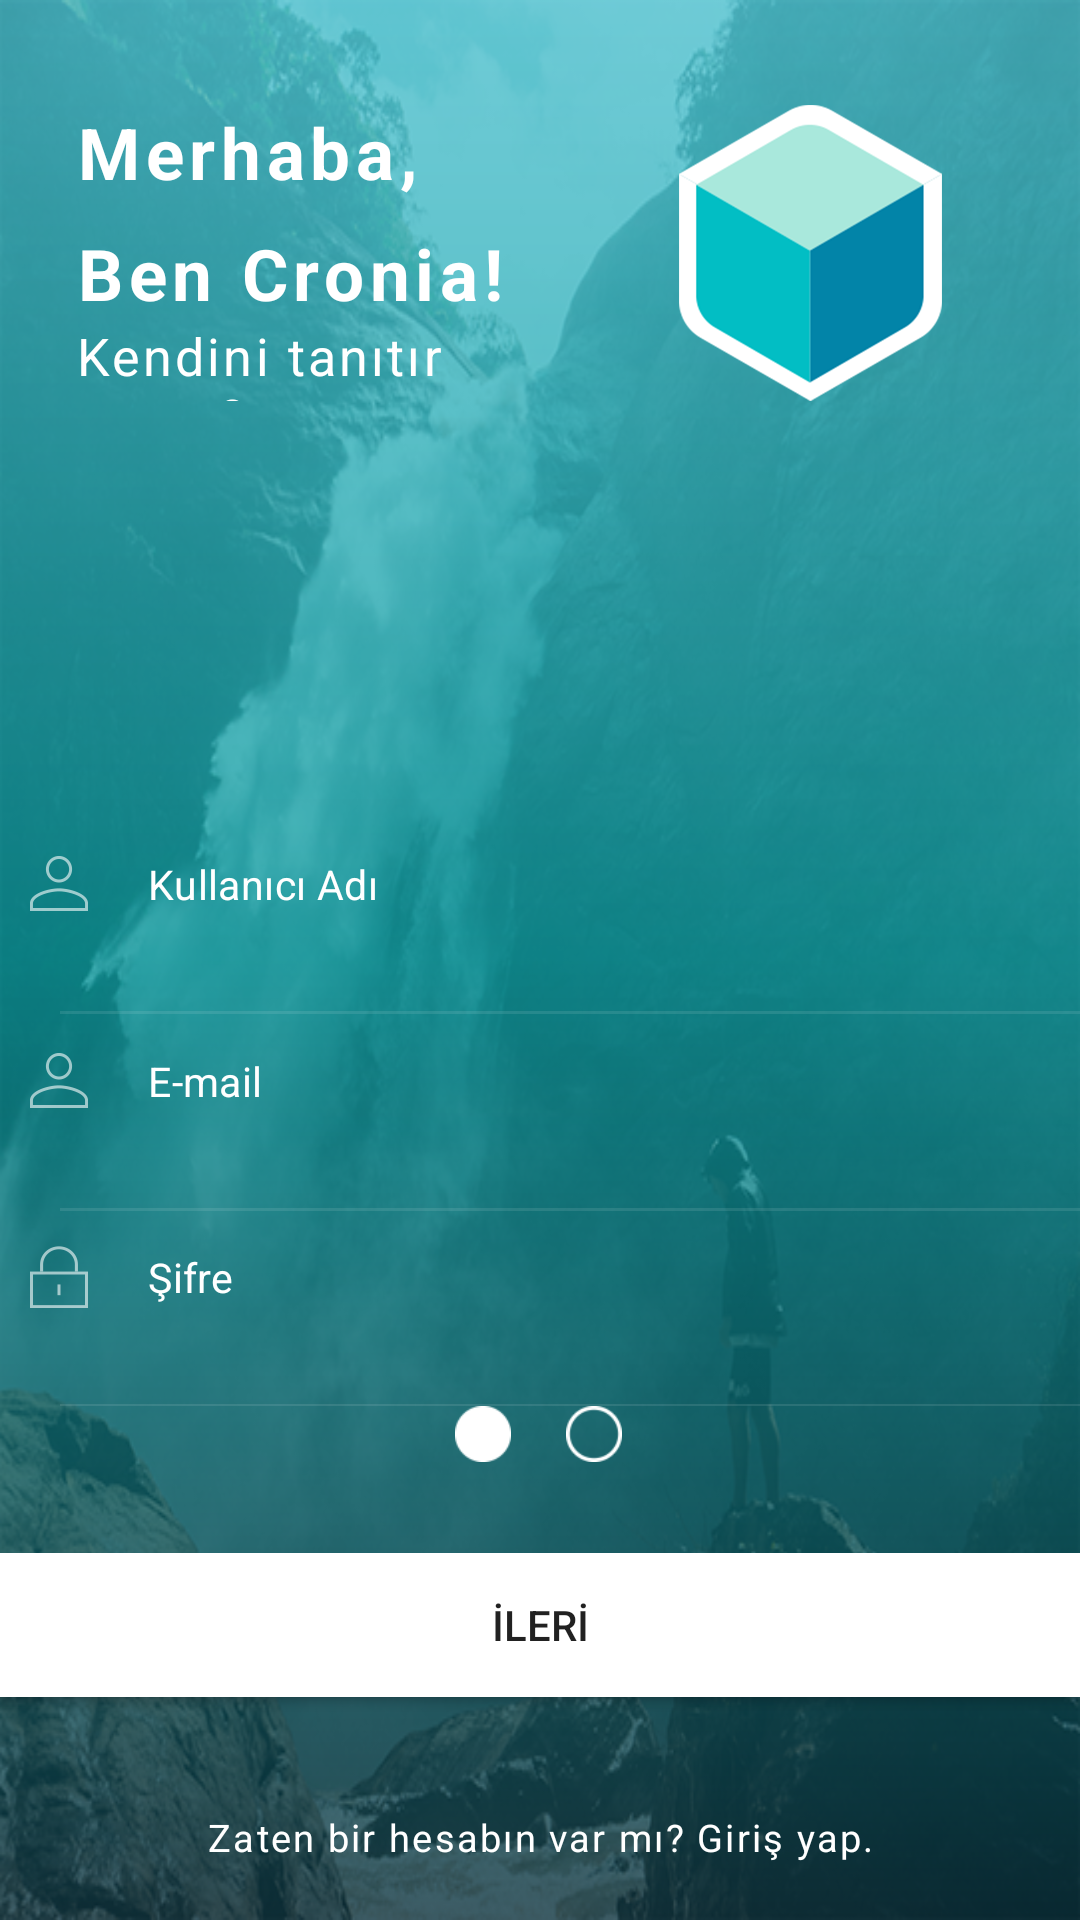

Where to tap for icons on this 1080*1920 app screen, as (x=x, y=y):
empty circle: (x=594, y=1434)
full circle: (x=483, y=1434)
